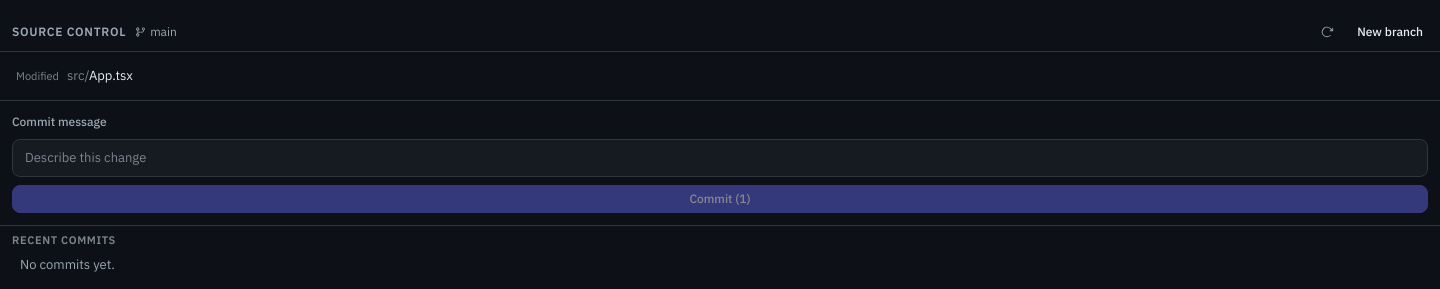
Test: SourceControlPanel › reads one file's diff when a change is selected
Click the text "App.tsx" at (100, 76), box [67,66,133,86]
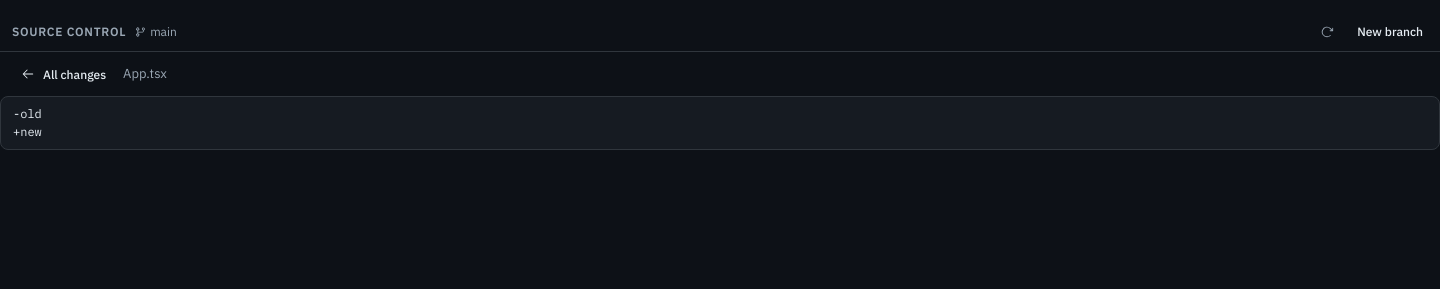
Result: the text "-old +new" is shown at [0,96,1439,150]
